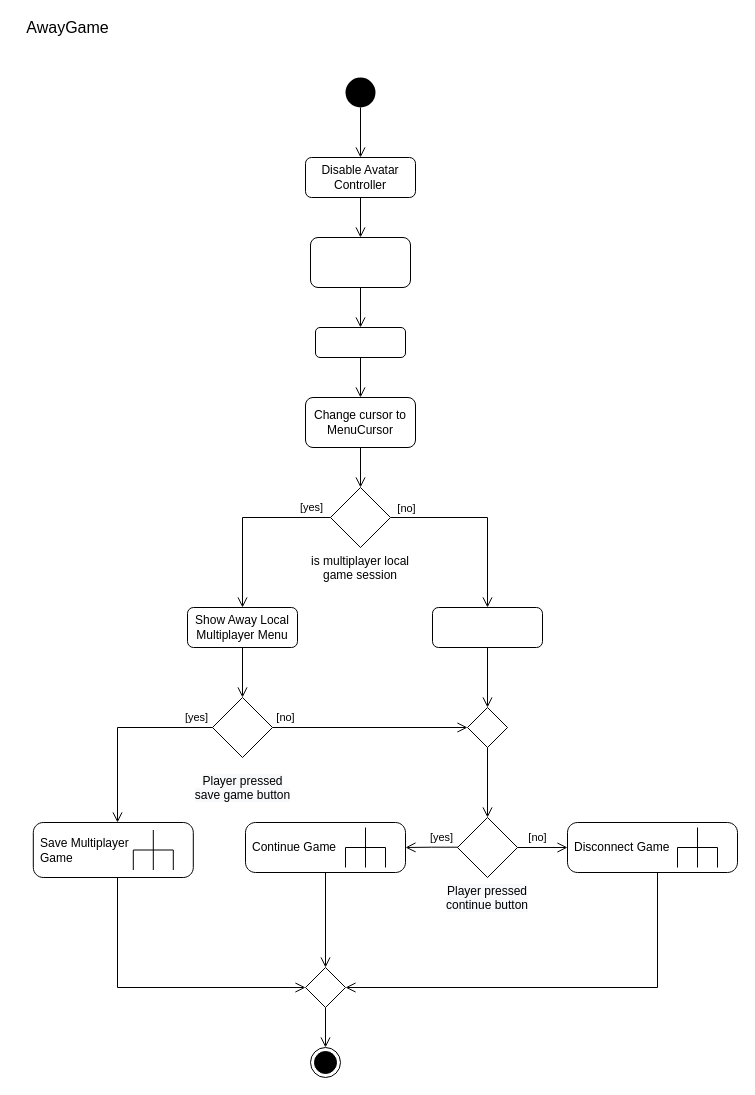
Image size: 755x1095. Some labels were removed from this diagram. The box of each missing label's shape, as (x1, y1, x2, y2) in pixels:
Hide HUD: (314, 326, 406, 358)
Set blur on the game scene: (310, 236, 410, 288)
Show Away Menu: (432, 606, 542, 648)
